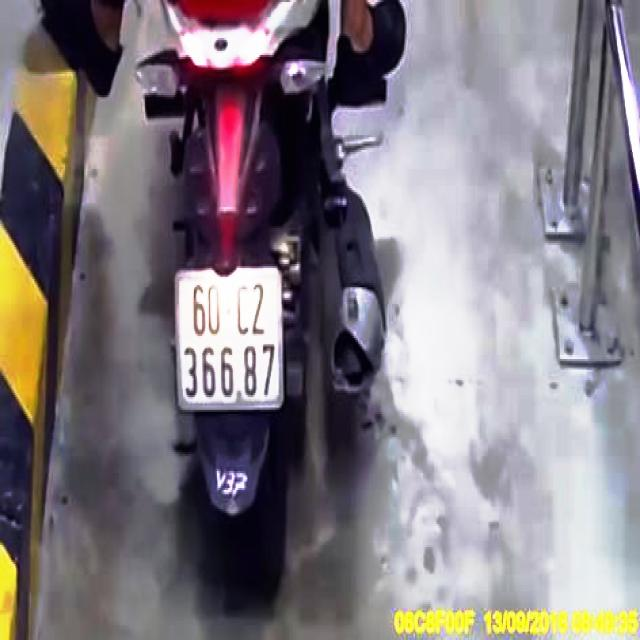license_plate: (178, 271, 279, 405)
